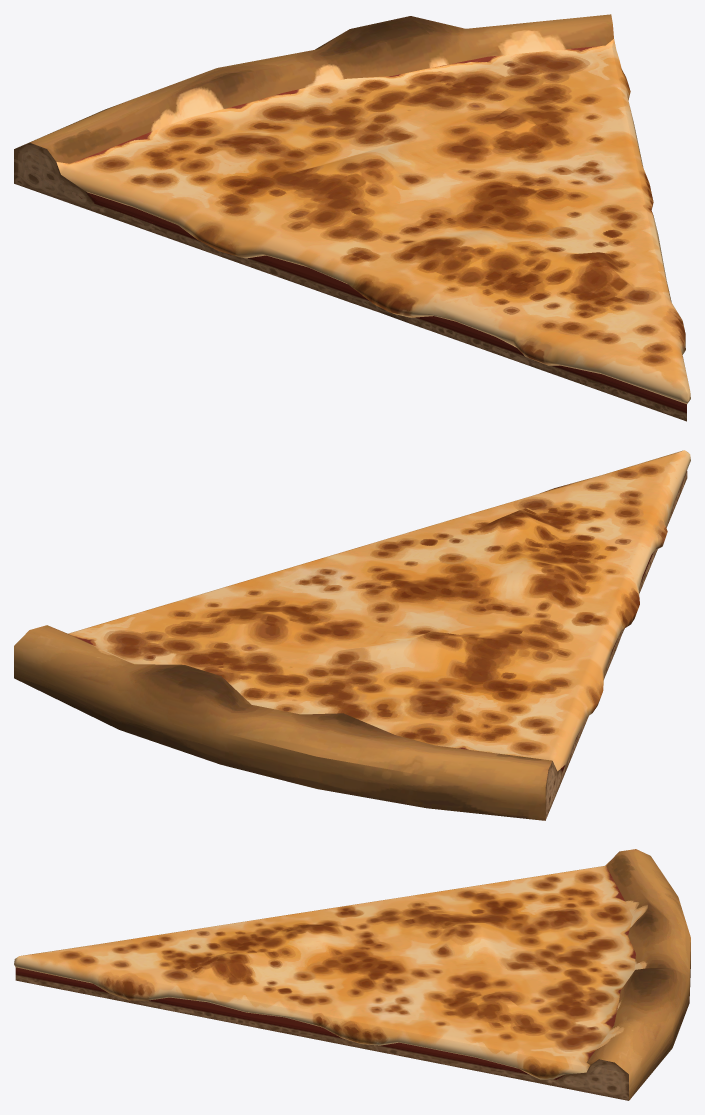
File: pizza.glb
3 renders of one model, top to bottom at view 1: azimuth 30°, elevation 25°; view 2: azimuth 150°, elevation 25°; view 3: azimuth 270°, elevation 25°, orthographic. The views are drawn at different scales.
Parts seen in each view (by area): view 1: pizza_cheese_slice_whole; view 2: pizza_cheese_slice_whole; view 3: pizza_cheese_slice_whole.
Boxes of the visible parts, x1=… form: pizza_cheese_slice_whole: x1=14, y1=14, x2=690, y2=421; pizza_cheese_slice_whole: x1=14, y1=450, x2=690, y2=820; pizza_cheese_slice_whole: x1=14, y1=849, x2=690, y2=1100.
Bounding box in the file's own units: 0.1765 × 0.0179 × 0.231.
1 material, 1 textured.
